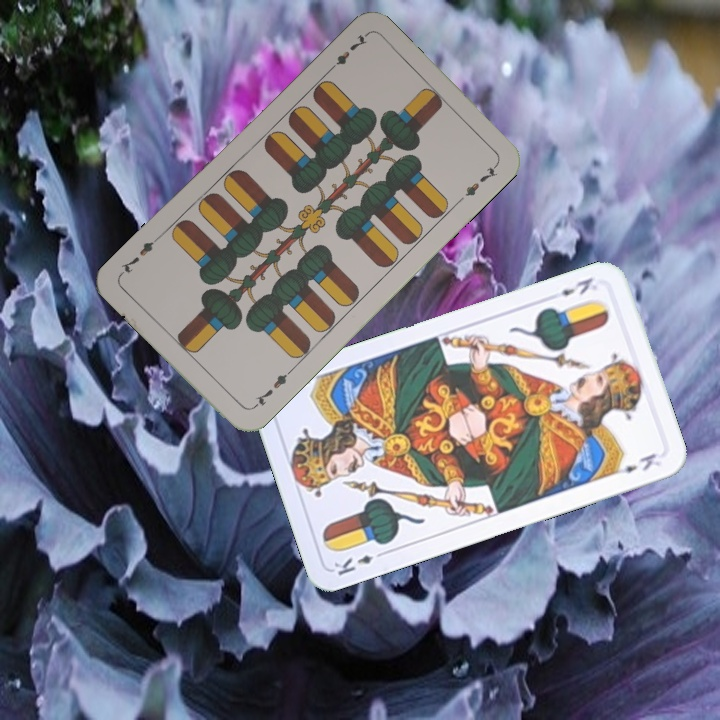E7: (248, 365, 295, 412), (323, 30, 371, 76)
EK: (329, 547, 389, 578), (556, 273, 596, 299)
